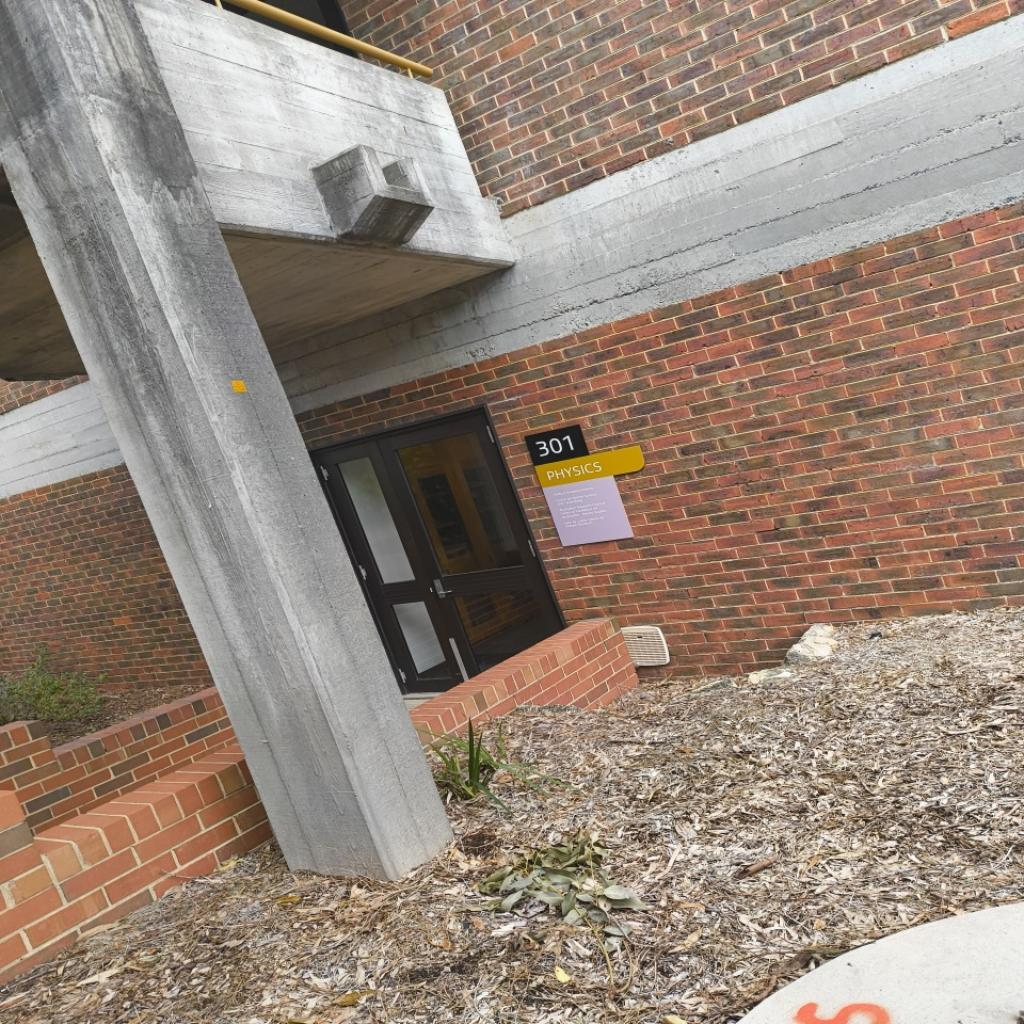BuildingCodes: (534, 433, 576, 459)
